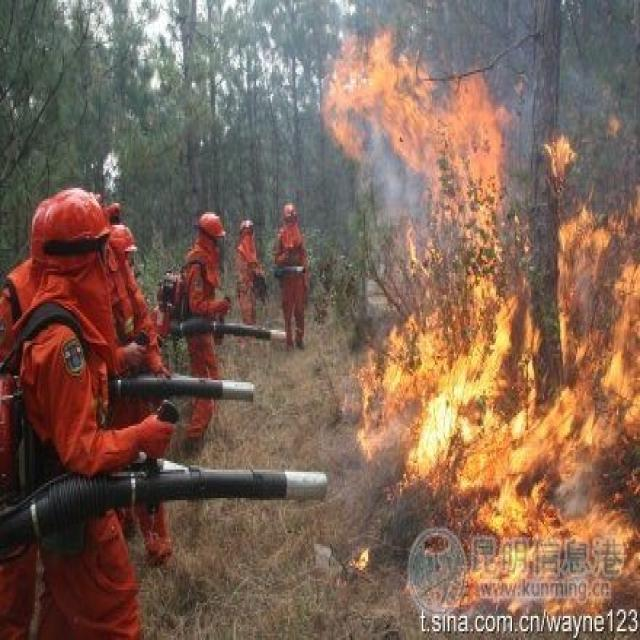fire: (328, 36, 639, 596)
